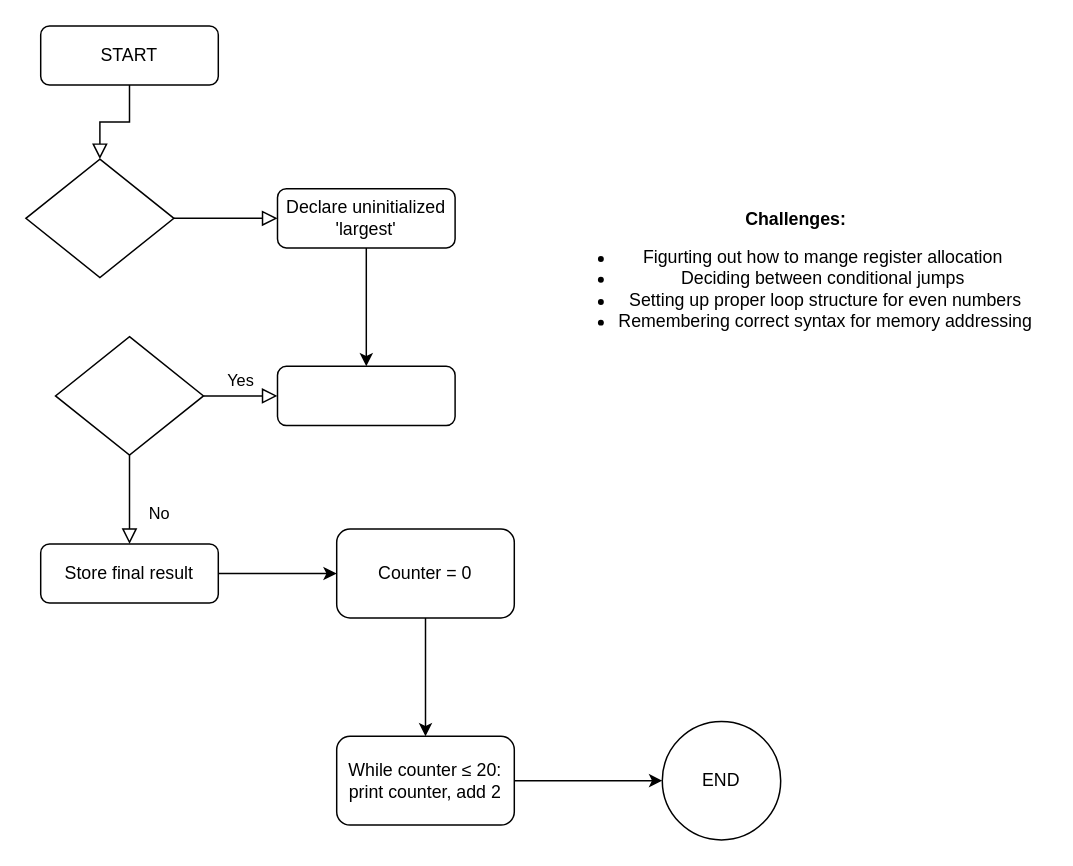
Some shapes in this 1073 by 866 pixel diagram are drawn without their labels. Here are the shapes that lost their labels. From the top down, the centre of each, then its label:
At point (99, 218): "Initialize 5 integers".
At point (129, 395): "Compare with num2-num5".
At point (365, 395): "Load num1 into register".
